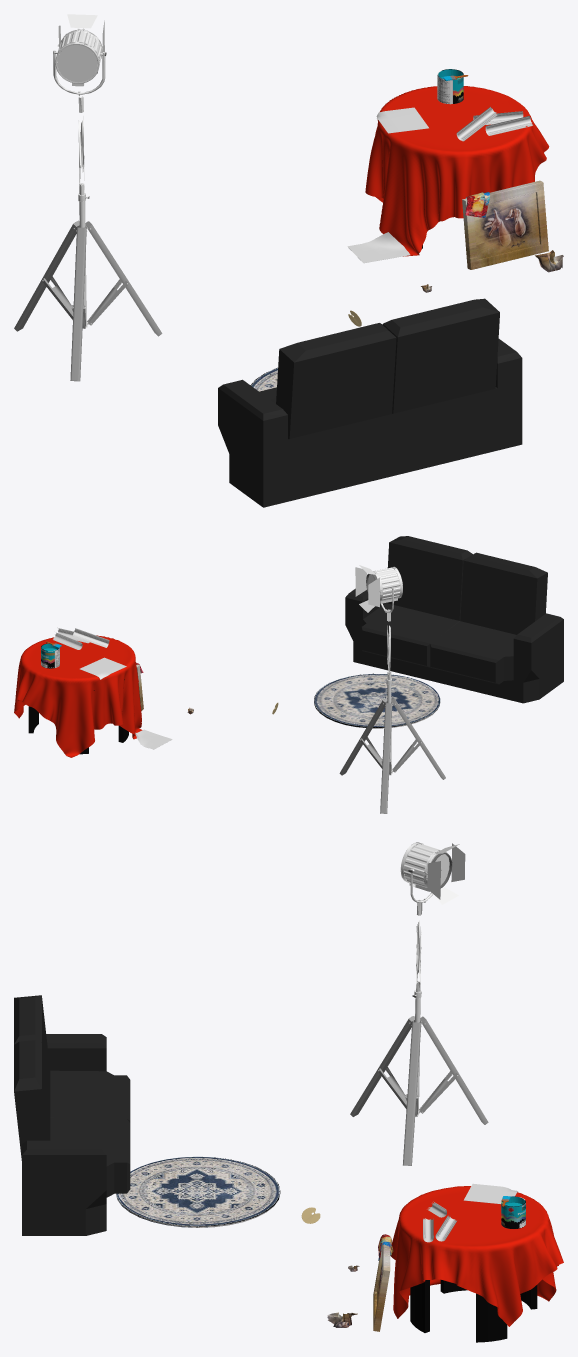
Rendered from mainroom.glb.
The picture shows the model from 3 angles, top to bottom: view 1: azimuth 30°, elevation 25°; view 2: azimuth 150°, elevation 25°; view 3: azimuth 270°, elevation 25°; orthographic projection. The views are drawn at different scales.
Parts seen in each view (by area): view 1: Plane_Material_0, cover, Cylinder006_Material #27_0, picturehands, paper2, paper1, Cylinder; view 2: Plane_Material_0, cover, Cylinder.001, Cylinder006_Material #27_0, paper1, paper2, Cylinder, desk; view 3: Plane_Material_0, cover, Cylinder.001, Cylinder006_Material #27_0, desk, picturehands, paper1, Cylinder.
Boxes of the visible parts, left/top/right/bottom form: Plane_Material_0: left=218, top=298, right=522, bottom=507; cover: left=365, top=86, right=549, bottom=256; Cylinder006_Material #27_0: left=14, top=14, right=162, bottom=381; picturehands: left=462, top=180, right=548, bottom=269; paper2: left=347, top=232, right=410, bottom=263; paper1: left=376, top=107, right=428, bottom=133; Cylinder: left=437, top=69, right=463, bottom=104; Plane_Material_0: left=345, top=536, right=563, bottom=703; cover: left=14, top=635, right=142, bottom=757; Cylinder.001: left=314, top=673, right=440, bottom=728; Cylinder006_Material #27_0: left=339, top=565, right=445, bottom=813; paper1: left=79, top=657, right=126, bottom=679; paper2: left=135, top=729, right=172, bottom=749; Cylinder: left=41, top=643, right=59, bottom=668; desk: left=28, top=679, right=128, bottom=754; Plane_Material_0: left=14, top=995, right=130, bottom=1235; cover: left=390, top=1186, right=563, bottom=1326; Cylinder.001: left=116, top=1156, right=280, bottom=1227; Cylinder006_Material #27_0: left=350, top=842, right=488, bottom=1165; desk: left=410, top=1280, right=537, bottom=1342; picturehands: left=373, top=1235, right=390, bottom=1331; paper1: left=463, top=1183, right=517, bottom=1204; Cylinder: left=501, top=1196, right=525, bottom=1228.
Bounding box in the file's own units: 13.19 × 7.57 × 12.76.
Materials: 16 (5 with a texture image).
